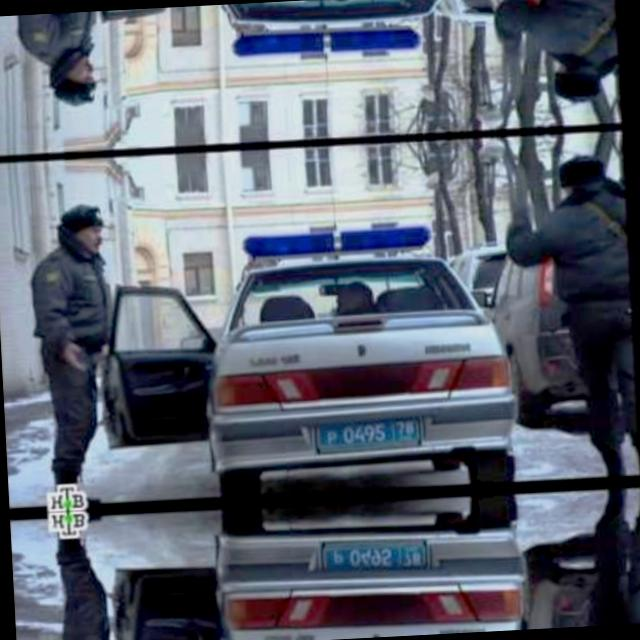police: (314, 414, 426, 454), (320, 536, 432, 576)
